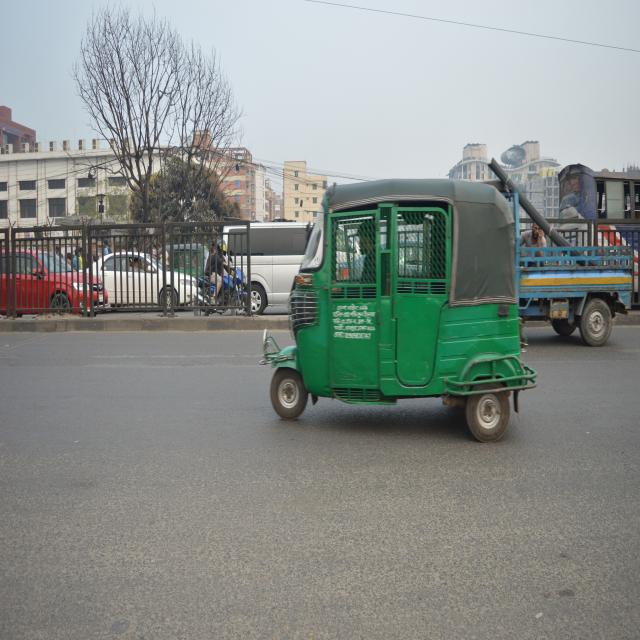bus: (558, 159, 640, 256)
car: (0, 234, 108, 323), (110, 244, 202, 316)
motorbike: (194, 262, 256, 324)
pickup-van: (513, 188, 637, 359)
